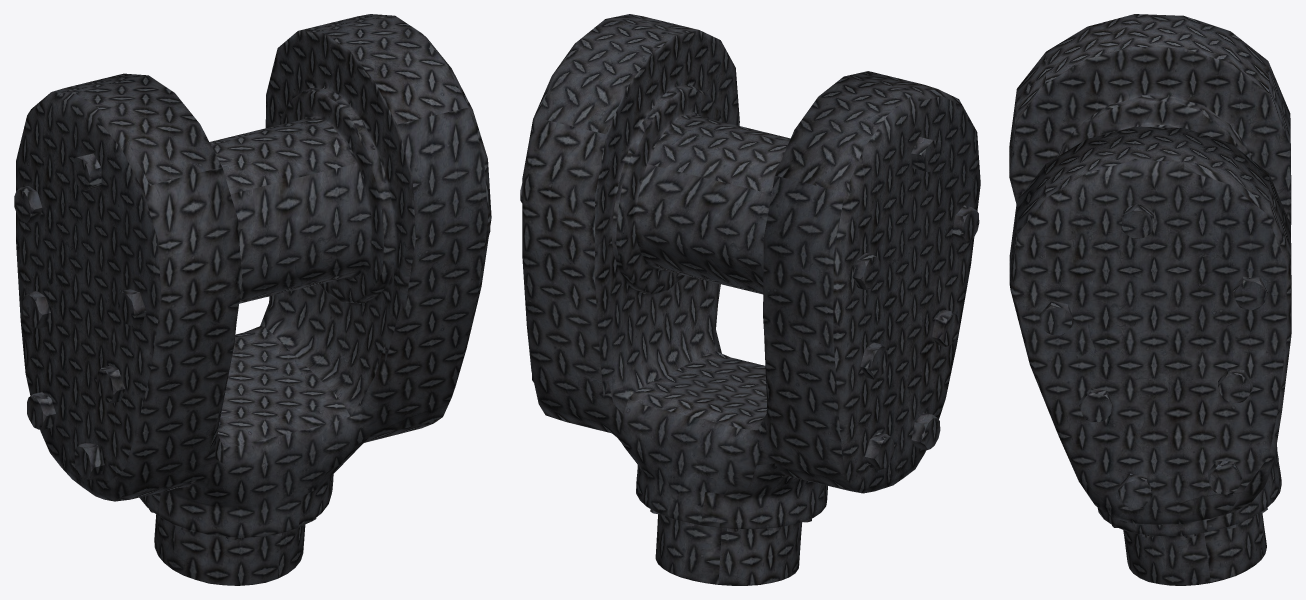
Rendered from Parte3_Brazo.obj.
The picture shows the model from 3 angles, left to right: view 1: azimuth 30°, elevation 25°; view 2: azimuth 150°, elevation 25°; view 3: azimuth 270°, elevation 25°; orthographic projection. The views are drawn at different scales.
Visible parts, largest first — view 1: Parte3_Brazo; view 2: Parte3_Brazo; view 3: Parte3_Brazo.
Part boxes in pixels (<box>): Parte3_Brazo: <box>14,14,491,585</box>; Parte3_Brazo: <box>520,14,980,585</box>; Parte3_Brazo: <box>1009,14,1291,585</box>.
Bounding box in the file's own units: 0.0965 × 0.1301 × 0.0698.
1 material, 1 textured.
